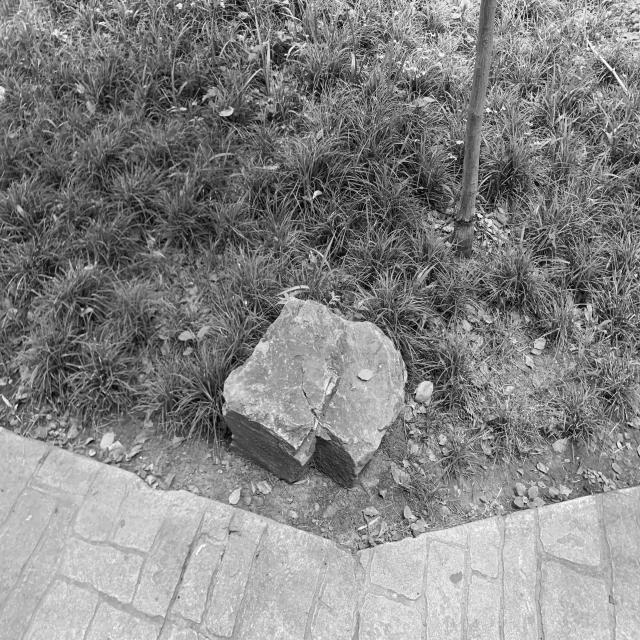Stone: (223, 299, 405, 485)
